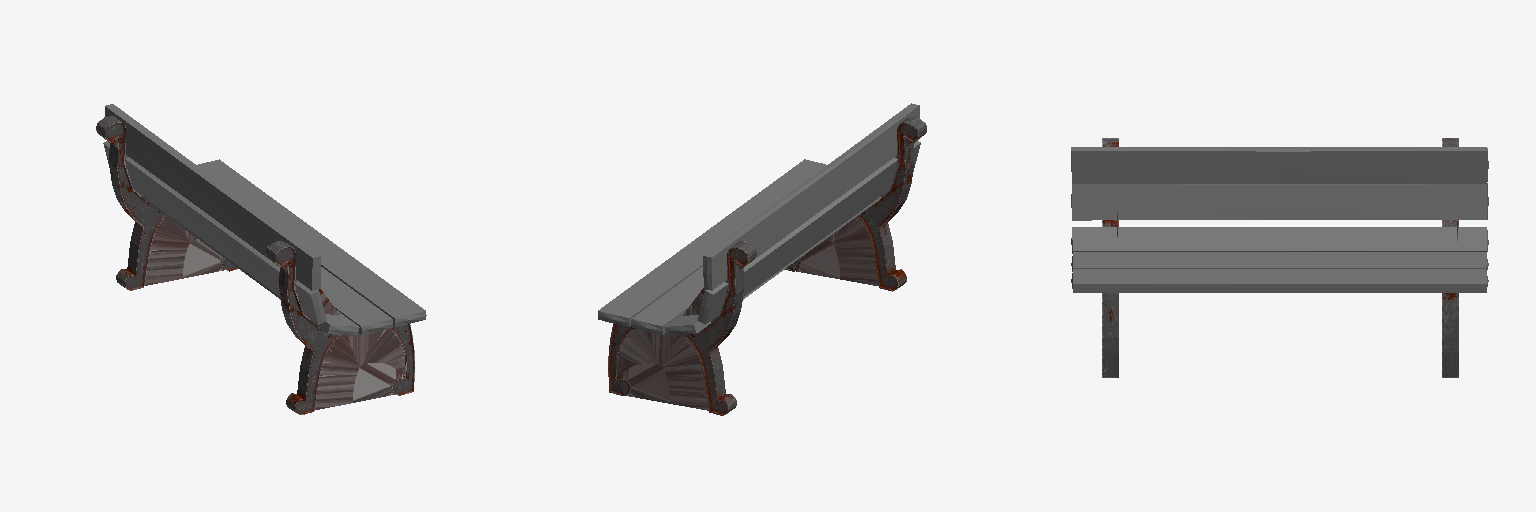
3 views of the same model, side by side, from view 1: azimuth 30°, elevation 25°; view 2: azimuth 150°, elevation 25°; view 3: azimuth 270°, elevation 25° (orthographic).
Parts seen in each view (by area): view 1: Tablas_del_banco1, Banco_Base_Plane.004; view 2: Tablas_del_banco1, Banco_Base_Plane.004; view 3: Tablas_del_banco1, Banco_Base_Plane.004.
Boxes of the visible parts, box(x1,y1,x2,y2) form: Tablas_del_banco1: box(103, 104, 426, 335); Banco_Base_Plane.004: box(96, 116, 414, 414); Tablas_del_banco1: box(598, 103, 920, 335); Banco_Base_Plane.004: box(608, 117, 926, 415); Tablas_del_banco1: box(1071, 147, 1488, 292); Banco_Base_Plane.004: box(1102, 138, 1458, 377).
Size of the model in its own units: 0.5175 by 0.6212 by 1.33.
Materials: 2 (1 with a texture image).